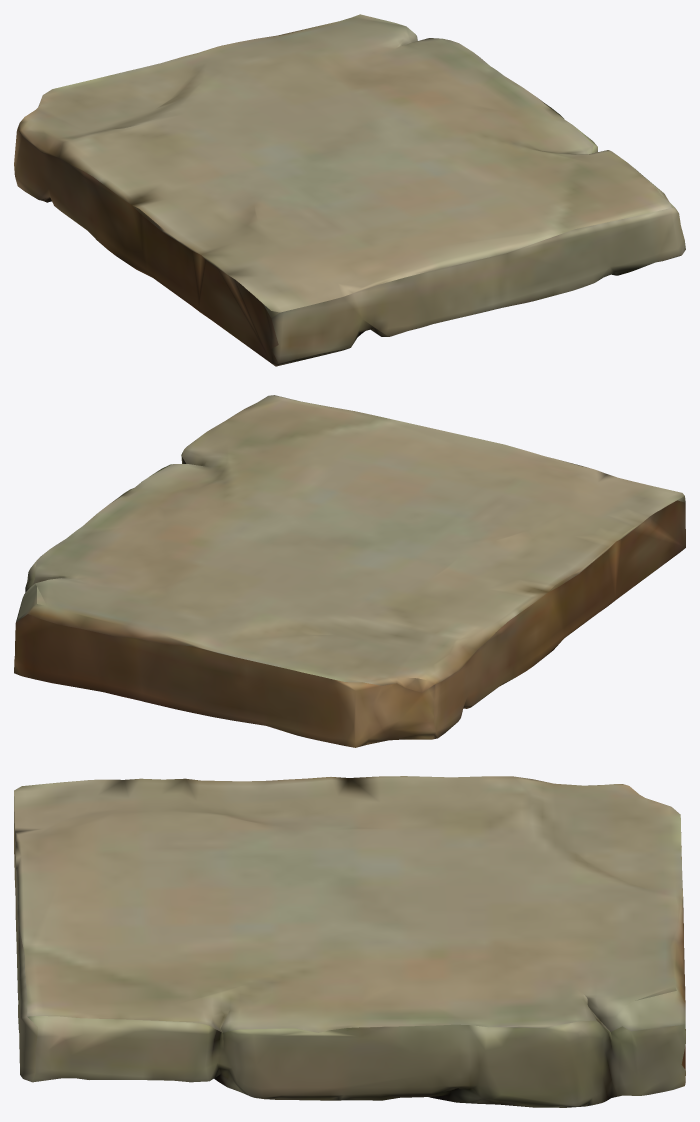
File: RockPack001.fbx
The picture shows the model from 3 angles, top to bottom: view 1: azimuth 30°, elevation 25°; view 2: azimuth 150°, elevation 25°; view 3: azimuth 270°, elevation 25°; orthographic projection. The views are drawn at different scales.
Visible parts, largest first — view 1: RockPack001; view 2: RockPack001; view 3: RockPack001.
Part boxes in pixels (left/top/right/bottom): RockPack001: left=14, top=14, right=685, bottom=366; RockPack001: left=14, top=395, right=685, bottom=747; RockPack001: left=14, top=776, right=685, bottom=1107.
Size of the model in its own units: 209 by 37.76 by 241.
Materials: 1 (1 with a texture image).
